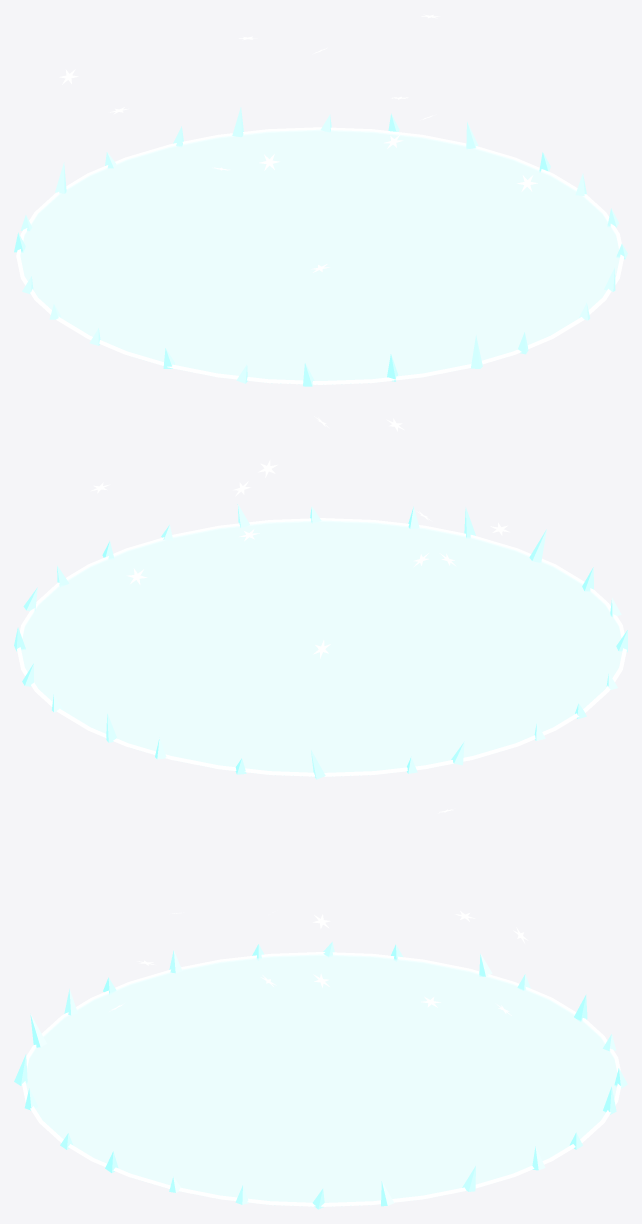
File: fx_blizzard_ring_v01.glb
3 views of the same model, one above another, from view 1: azimuth 30°, elevation 25°; view 2: azimuth 150°, elevation 25°; view 3: azimuth 270°, elevation 25° (orthographic).
Visible parts, largest first — view 1: blizzard_ring; view 2: blizzard_ring; view 3: blizzard_ring.
Boxes of the visible parts, <box> form: blizzard_ring: <box>14,107,627,386</box>; blizzard_ring: <box>14,504,627,779</box>; blizzard_ring: <box>14,941,627,1209</box>.
Bounding box in the file's own units: 12.23 × 4.12 × 12.35.
